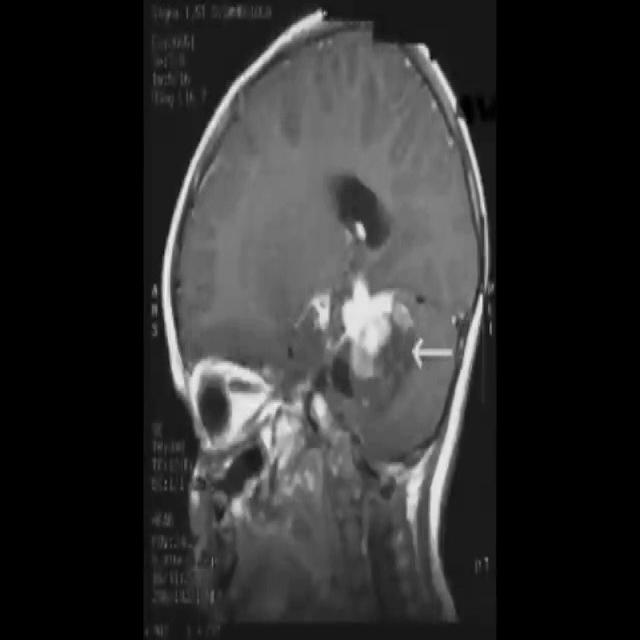tumor: (320, 215, 410, 392)
